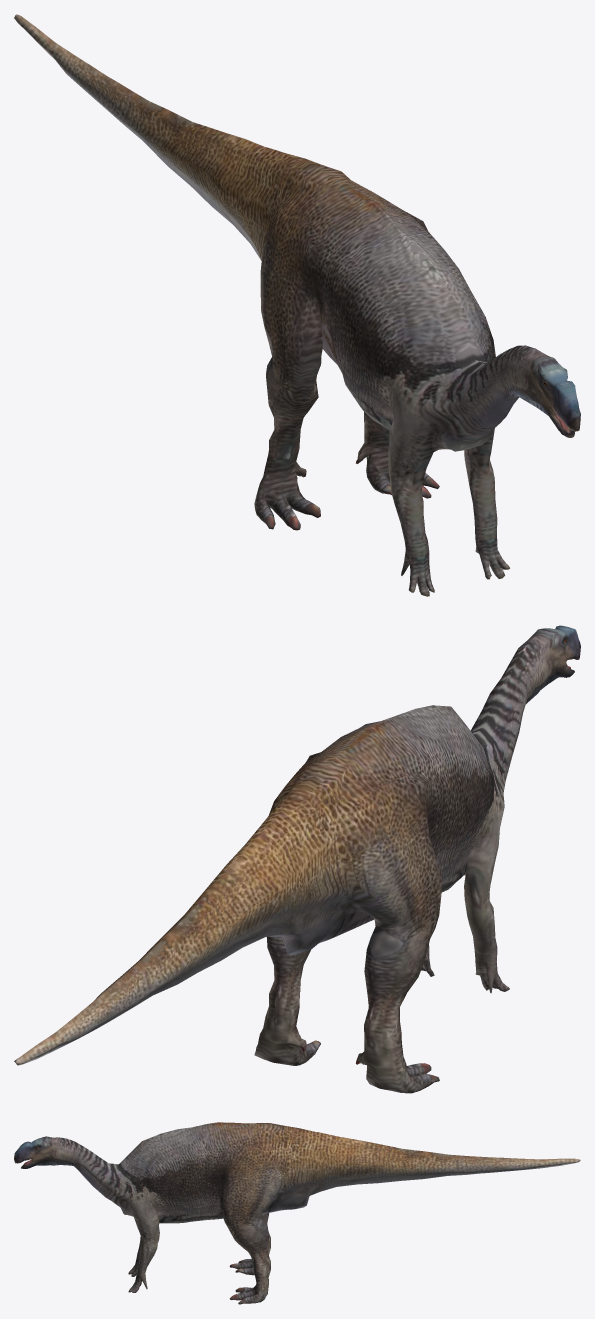
The model's file is Muttaburrasaurus.glb.
The picture shows the model from 3 angles, top to bottom: view 1: azimuth 30°, elevation 25°; view 2: azimuth 150°, elevation 25°; view 3: azimuth 270°, elevation 25°; orthographic projection. The views are drawn at different scales.
Parts seen in each view (by area): view 1: mutta_low; view 2: mutta_low; view 3: mutta_low.
Part boxes in pixels (left/top/right/bottom): mutta_low: left=14, top=14, right=580, bottom=596; mutta_low: left=14, top=625, right=580, bottom=1093; mutta_low: left=14, top=1122, right=580, bottom=1304.
Size of the model in its own units: 1.07 by 1.93 by 6.11.
Materials: 1 (1 with a texture image).
